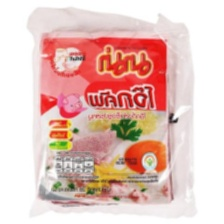snack: (18, 0, 204, 224)
